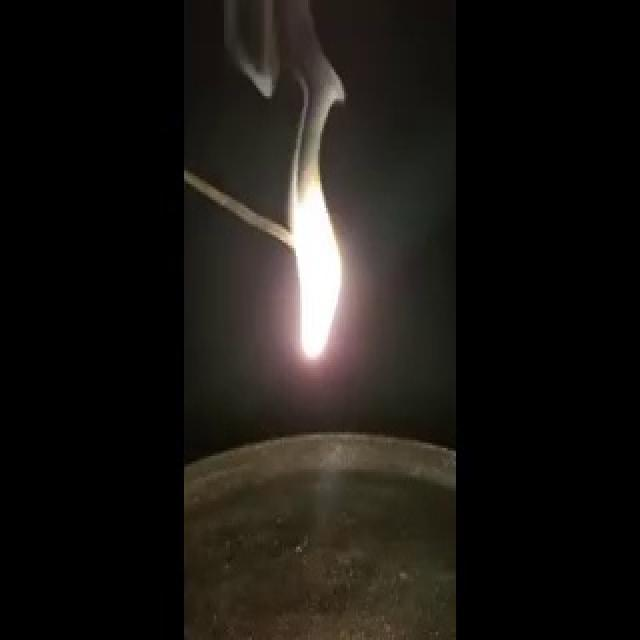fire: (264, 133, 346, 400)
